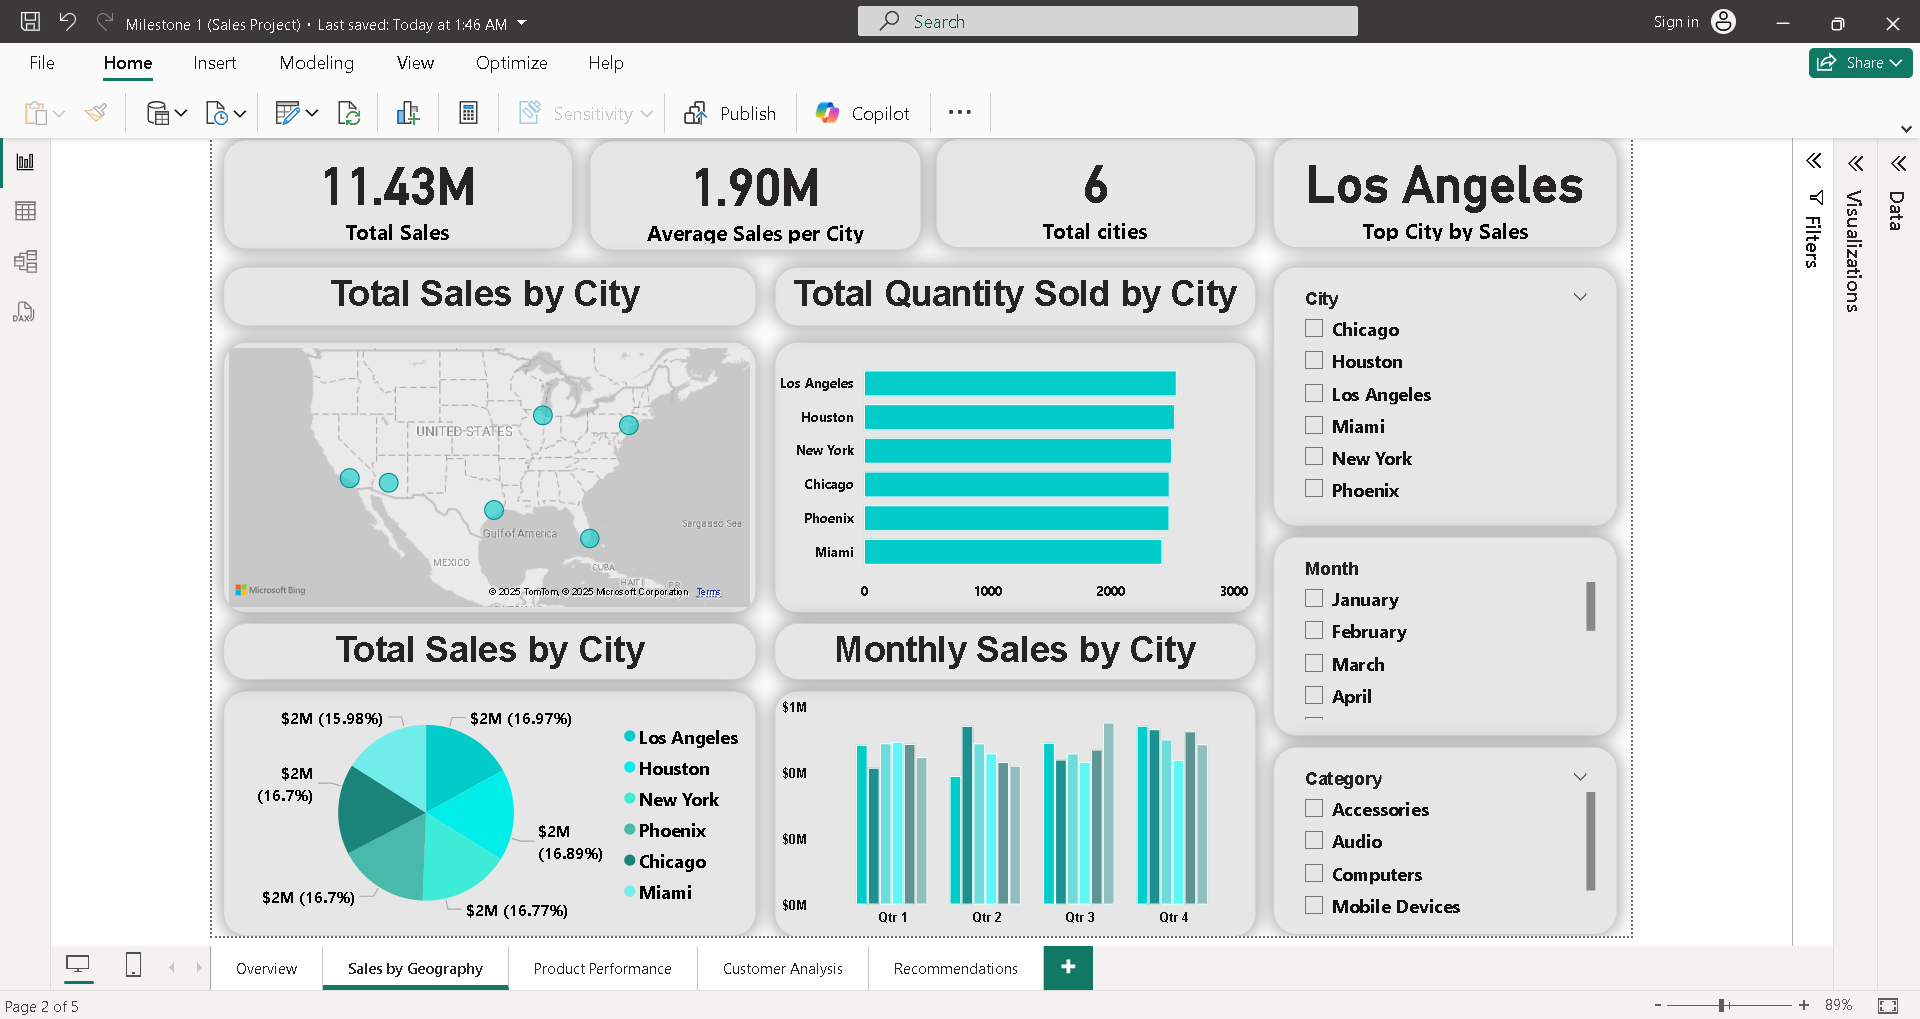

This screenshot's page, from the dashboard's own definition file:
{"tool":"powerbi","page":{"name":"Sales by Geography","canvas":[1280,720],"ordinal":1},"visuals":[{"type":"barChart","fields":{"Category":["Dim_city.City"],"Y":["Fact_Sales.Total Quantity Sold"]},"box":[507.5,183.4,434.1,244.6],"z":0},{"type":"textbox","box":[507.5,116.2,434.1,53.8],"z":1000},{"type":"card","fields":{"Values":["Fact_Sales.Total Sales 1"]},"box":[9.8,1.2,315.5,99],"z":2000},{"type":"card","fields":{"Values":["Dim_city.Total cities"]},"box":[653,0,288.6,99],"z":3000},{"type":"card","fields":{"Values":["Dim_city.Average Sales per City"]},"box":[339.9,2.4,299.6,99],"z":4000},{"type":"card","fields":{"Values":["Dim_city.Top City by Sales"]},"box":[957.5,0,310.6,99],"z":5000},{"type":"map","fields":{"Category":["Dim_city.City"],"Size":["Fact_Sales.Total Sales"]},"box":[9.8,183.4,480.6,244.6],"z":6000},{"type":"textbox","box":[9.8,116.2,480.6,53.8],"z":7000},{"type":"pieChart","fields":{"Category":["Dim_city.City"],"Y":["Sum(Fact_Sales.Total Sales1)"]},"box":[9.8,497.7,480.6,221.3],"z":8000},{"type":"textbox","box":[9.8,437.8,480.6,51.4],"z":9000},{"type":"clusteredColumnChart","fields":{"Category":["Fact_Sales.Date.Variation.Date Hierarchy.Quarter"],"Series":["Dim_city.City"],"Y":["Sum(Fact_Sales.Total Sales1)"]},"box":[507.5,497.7,434.1,222.6],"z":10000},{"type":"textbox","box":[507.5,437.8,434.1,51.4],"z":11000},{"type":"slicer","fields":{"Values":["Dim_city.City"]},"box":[957.5,116.2,310.6,234.8],"z":12000},{"type":"slicer","fields":{"Values":["Fact_Sales.Date.Variation.Date Hierarchy.Month"]},"box":[957.5,359.5,310.6,179.8],"z":13000},{"type":"slicer","fields":{"Values":["Dim_Product.Category"]},"box":[957.5,549.1,310.6,170],"z":14000}]}

Visuals, with their boxes on the page's 1280x720 design canvas (x1, y1, x2, y2). These are canvas units, not pixel positions in the 1920x1019 screenshot, which may show the page scaled, cropped or inside an application window:
barChart - Dim_city.City x Fact_Sales.Total Quantity Sold: box(508, 183, 942, 428)
textbox: box(508, 116, 942, 170)
card - Fact_Sales.Total Sales 1: box(10, 1, 325, 100)
card - Dim_city.Total cities: box(653, 0, 942, 99)
card - Dim_city.Average Sales per City: box(340, 2, 640, 101)
card - Dim_city.Top City by Sales: box(958, 0, 1268, 99)
map - Dim_city.City x Fact_Sales.Total Sales: box(10, 183, 490, 428)
textbox: box(10, 116, 490, 170)
pieChart - Dim_city.City x Sum(Fact_Sales.Total Sales1): box(10, 498, 490, 719)
textbox: box(10, 438, 490, 489)
clusteredColumnChart - Fact_Sales.Date.Variation.Date Hierarchy.Quarter x Dim_city.City: box(508, 498, 942, 720)
textbox: box(508, 438, 942, 489)
slicer - Dim_city.City: box(958, 116, 1268, 351)
slicer - Fact_Sales.Date.Variation.Date Hierarchy.Month: box(958, 360, 1268, 539)
slicer - Dim_Product.Category: box(958, 549, 1268, 719)
